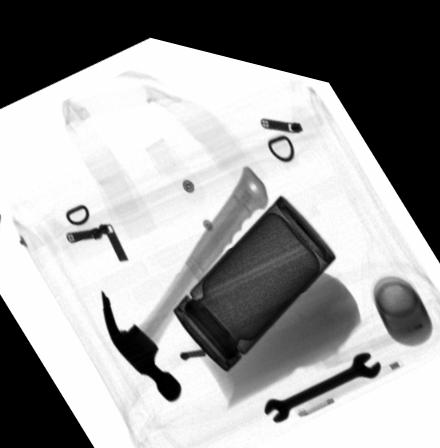Hammer: (99, 152, 269, 390)
Wrench: (262, 333, 380, 408)
